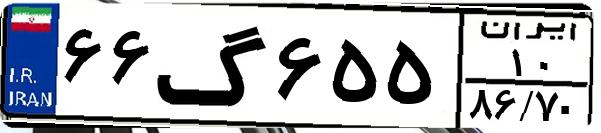0: (560, 70, 590, 125), (537, 27, 568, 80)
1: (508, 27, 537, 80)
5: (385, 28, 445, 110), (330, 28, 385, 110)
6: (270, 28, 330, 110), (57, 26, 110, 100), (110, 28, 156, 98), (495, 70, 520, 125)
7: (535, 70, 560, 125)
8: (470, 70, 495, 125)
گ: (156, 12, 270, 120)
